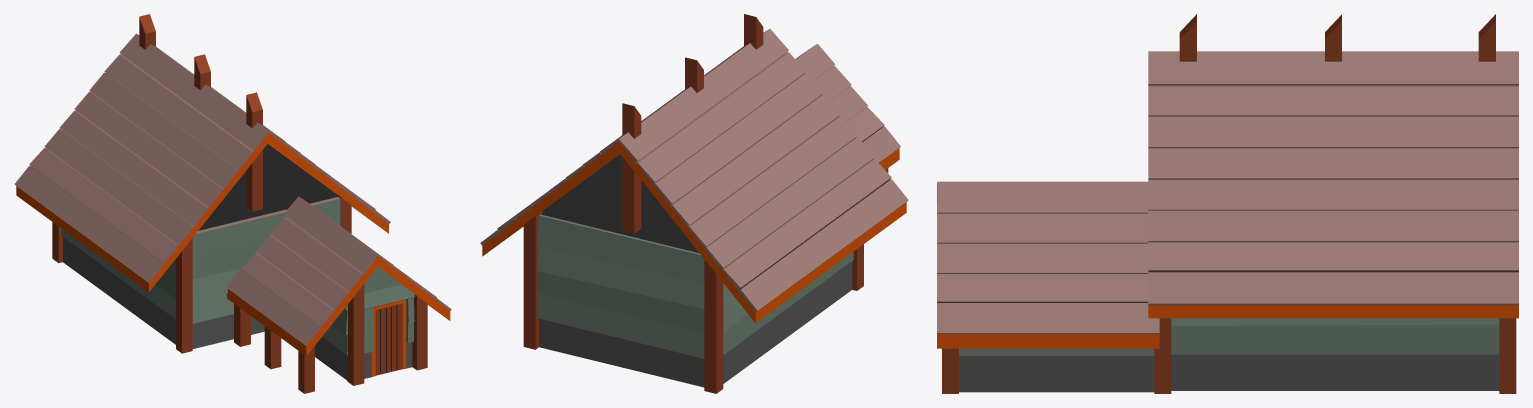
The model's file is House.fbx.
3 views of the same model, side by side, from view 1: azimuth 30°, elevation 25°; view 2: azimuth 150°, elevation 25°; view 3: azimuth 270°, elevation 25° (orthographic). The views are drawn at different scales.
Parts seen in each view (by area): view 1: House; view 2: House; view 3: House.
Part boxes in pixels (x1,y1,x2,y2): House: [14, 14, 451, 393]; House: [480, 14, 908, 393]; House: [937, 14, 1518, 393].
Bounding box in the file's own units: 598 × 535 × 886.
